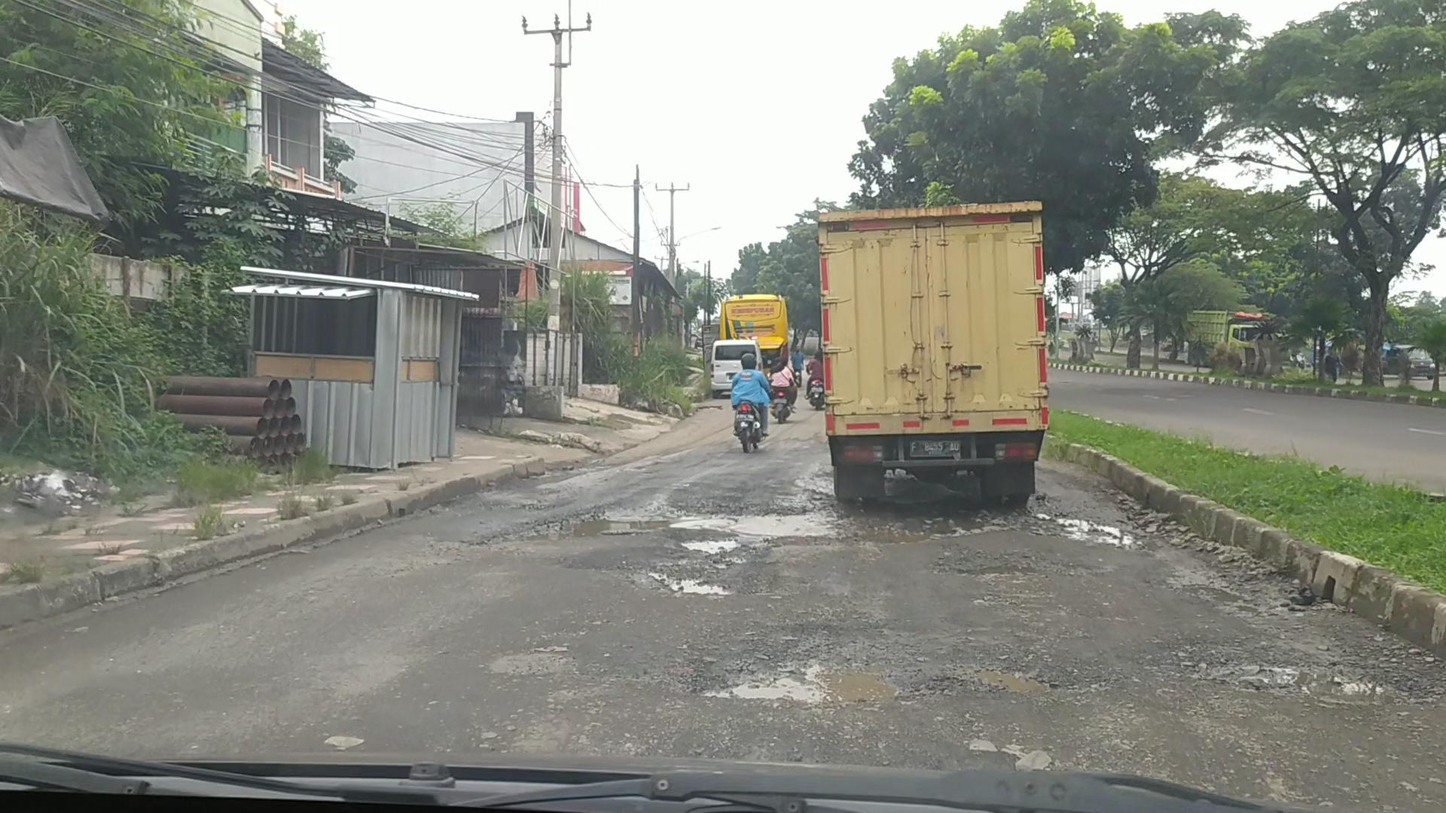pothole: (475, 501, 1156, 597), (1187, 651, 1427, 706), (691, 657, 918, 709), (1171, 580, 1272, 628), (955, 658, 1053, 700), (930, 553, 1086, 577)
